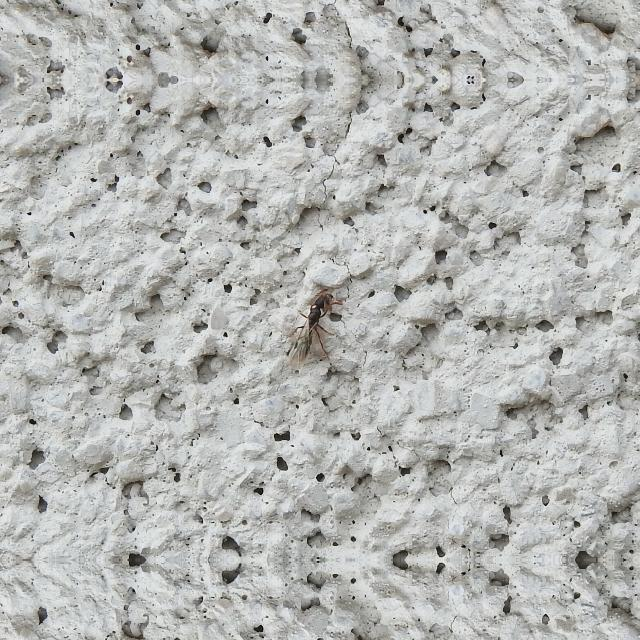Ponera: (279, 272, 343, 373)
